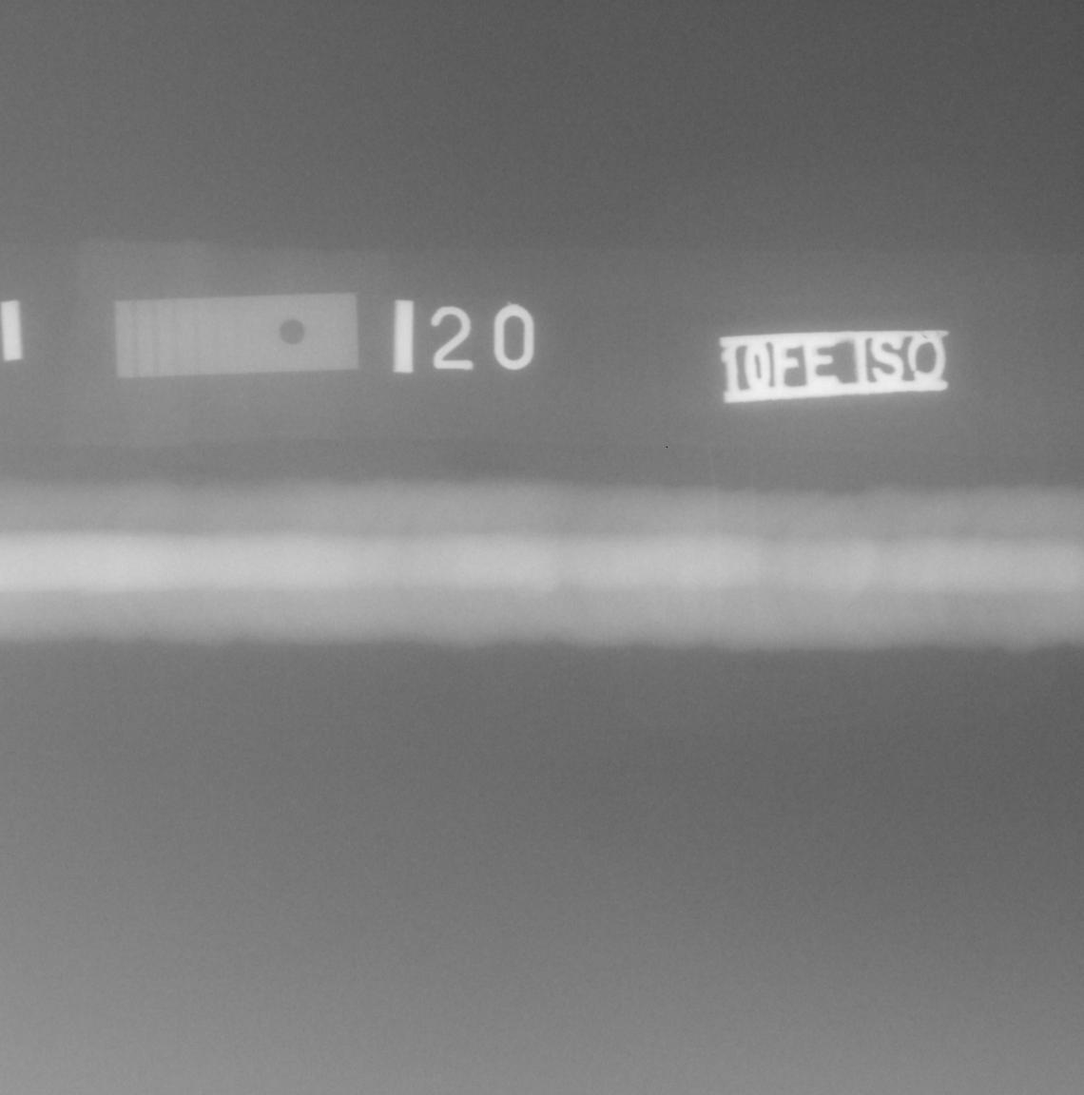Reference Standard 1: (114, 293, 359, 378)
